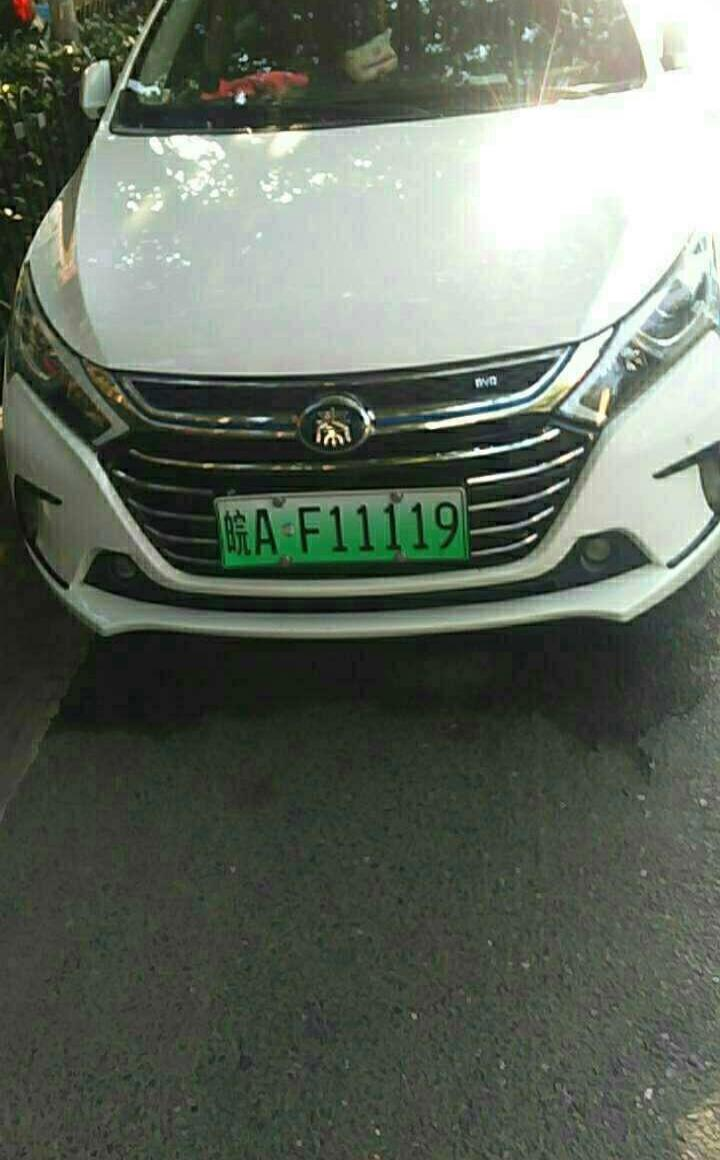car_id: (219, 490, 466, 566)
